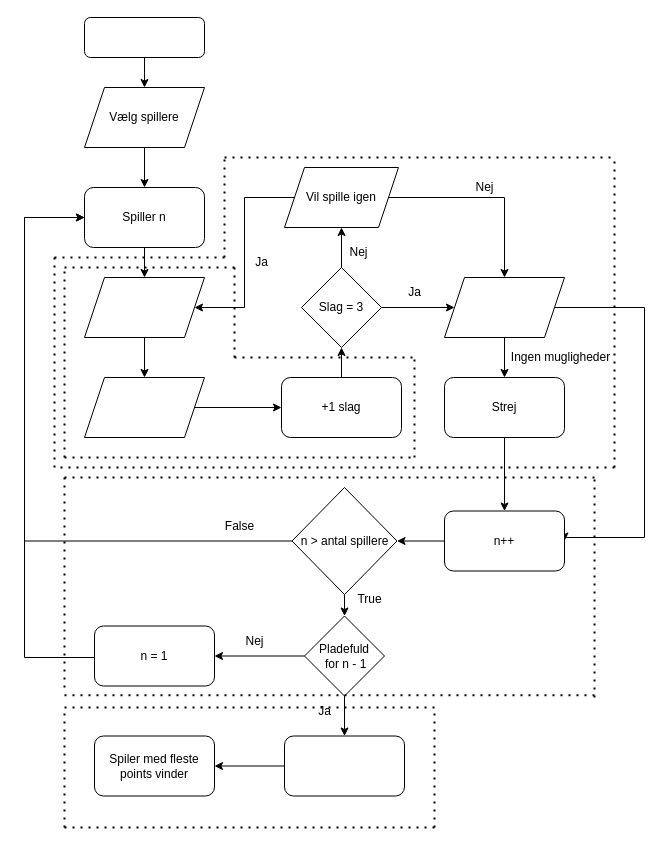
The diagram is 670 pixels wide and 847 high, and some of its shapes have lost their labels. The centre of each missing label's shape, as x and y in pixels:
"Læg points sammen for hver spiller" goes at [344,765].
"Slår terning" goes at [144,307].
"Start spil" goes at [144,37].
"Terninger vælges" goes at [144,407].
"Vælg points" goes at [504,307].
